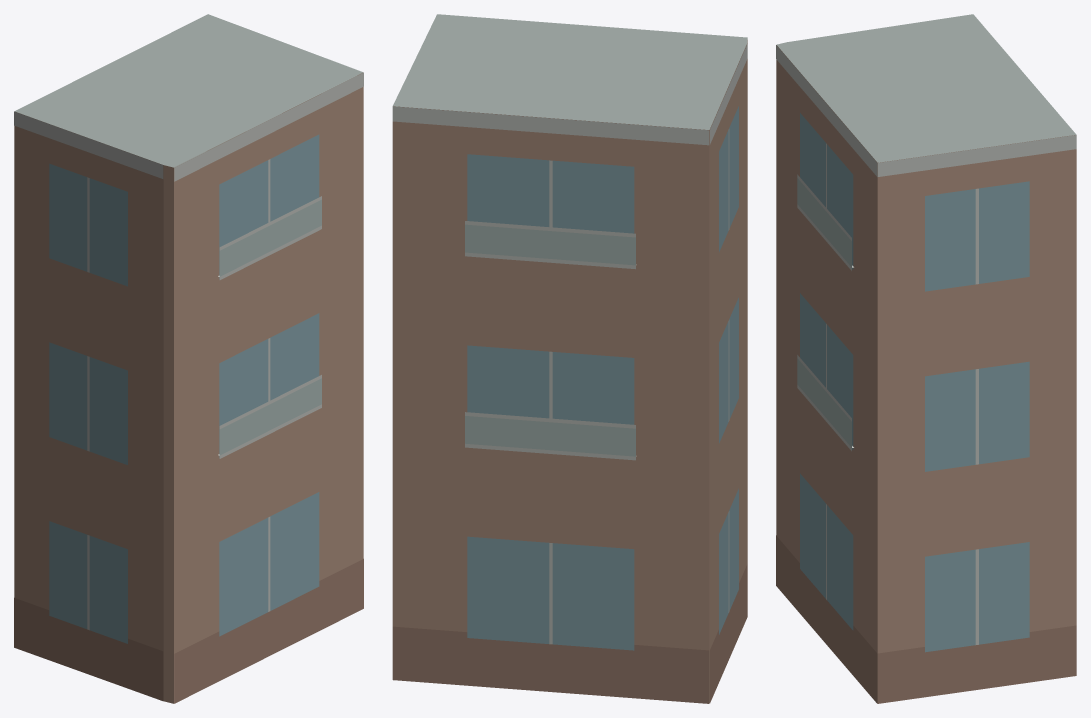
File: survey-upis-32841819.glb
3 views of the same model, side by side, from view 1: azimuth 30°, elevation 25°; view 2: azimuth 150°, elevation 25°; view 3: azimuth 270°, elevation 25° (orthographic). The views are drawn at different scales.
Visible parts, largest first — view 1: survey-upis-32841819.tmp; view 2: survey-upis-32841819.tmp; view 3: survey-upis-32841819.tmp.
Boxes of the visible parts, x1=… form: survey-upis-32841819.tmp: x1=14, y1=14, x2=363, y2=703; survey-upis-32841819.tmp: x1=392, y1=14, x2=747, y2=703; survey-upis-32841819.tmp: x1=776, y1=14, x2=1076, y2=703.
Bounding box in the file's own units: 5.4 × 9.15 × 4.61.
